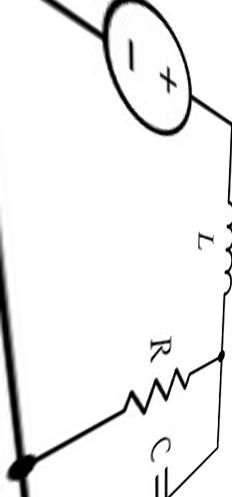resistor: (108, 363, 197, 415)
